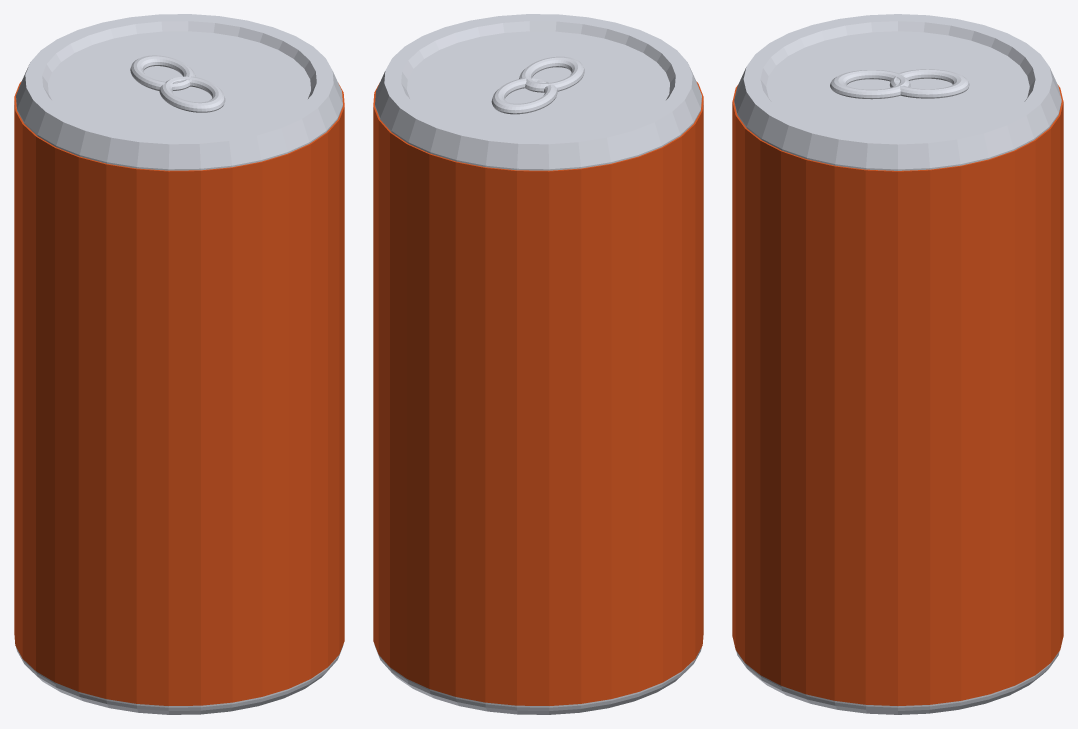
File: redcan.fbx
3 renders of one model, left to right at view 1: azimuth 30°, elevation 25°; view 2: azimuth 150°, elevation 25°; view 3: azimuth 270°, elevation 25°, orthographic.
Visible parts, largest first — view 1: Cylinder.001, Cylinder; view 2: Cylinder.001, Cylinder; view 3: Cylinder.001, Cylinder.
Boxes of the visible parts, left/top/right/bottom form: Cylinder.001: left=14, top=81, right=344, bottom=705; Cylinder: left=16, top=14, right=343, bottom=714; Cylinder.001: left=373, top=81, right=703, bottom=705; Cylinder: left=374, top=14, right=701, bottom=714; Cylinder.001: left=732, top=84, right=1063, bottom=705; Cylinder: left=734, top=14, right=1061, bottom=714.
Size of the model in its own units: 48.64 by 92.22 by 48.64.
